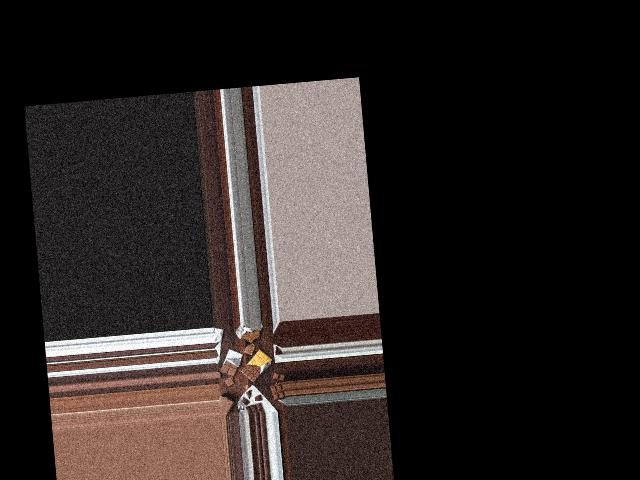chocolate: (216, 349, 245, 377)
